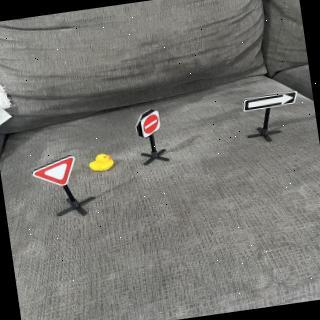duck_regular: (87, 150, 118, 177)
sign_noentry: (139, 109, 164, 141)
sign_oneway_right: (242, 90, 301, 114)
sign_yield: (31, 155, 80, 192)
